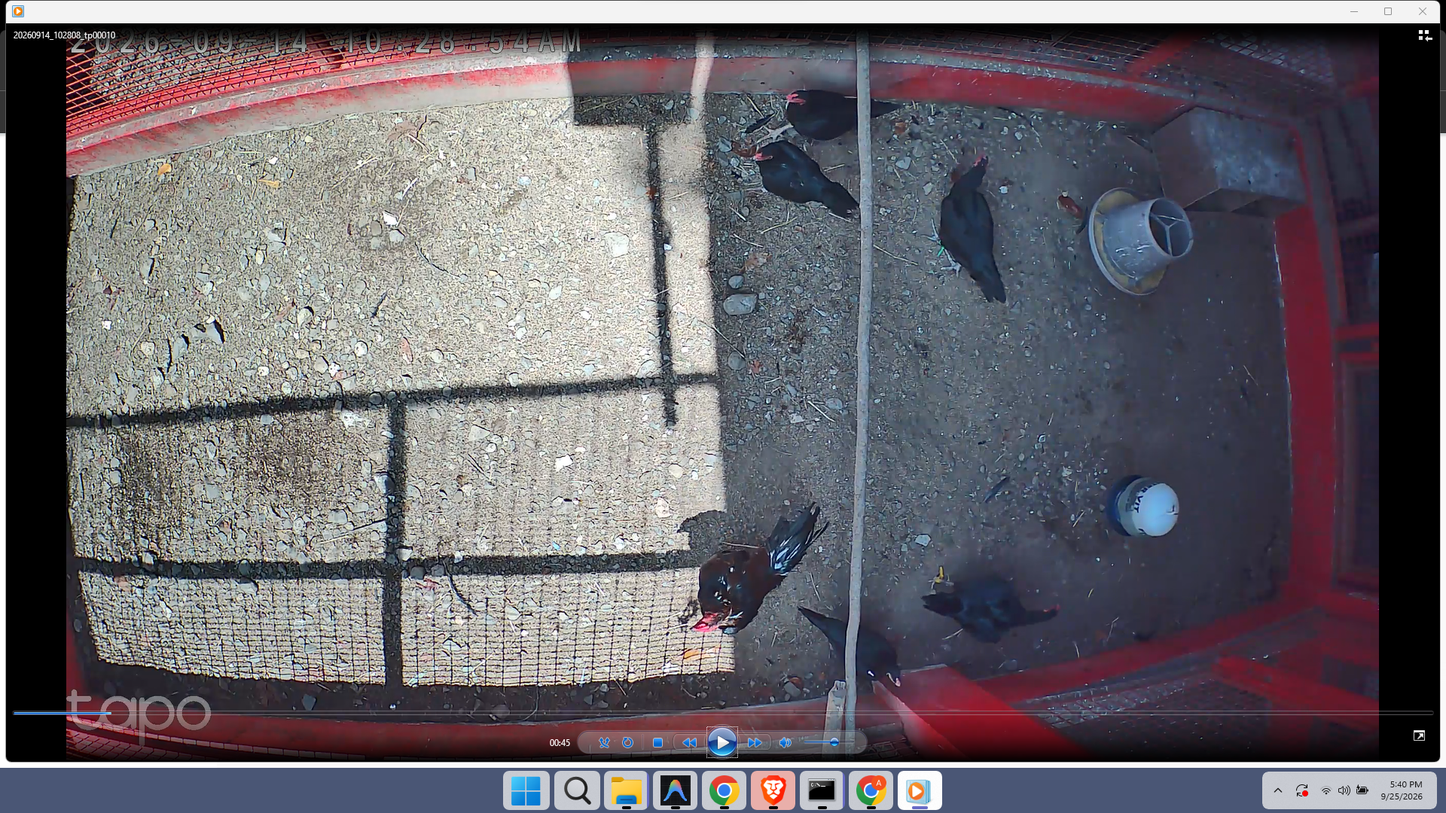Chicken: (922, 147, 1008, 303), (921, 565, 1060, 643), (745, 141, 863, 223), (795, 604, 903, 691), (750, 88, 904, 148)
Drinker: (1103, 474, 1183, 538)
Feeder: (1086, 184, 1196, 298)
Leg_Band_Green: (935, 238, 945, 258)
Leg_Band_Yellow: (935, 565, 945, 584)
Rooster: (688, 497, 832, 643)
